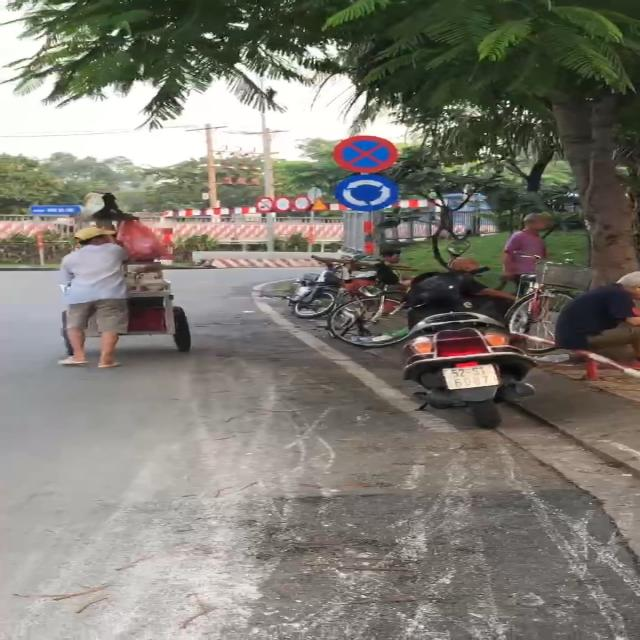Bien bao cam dung xe va do xe: (328, 133, 412, 175)
Bien bao noi giao nhau chay theo vong xuyen: (330, 174, 408, 216)
